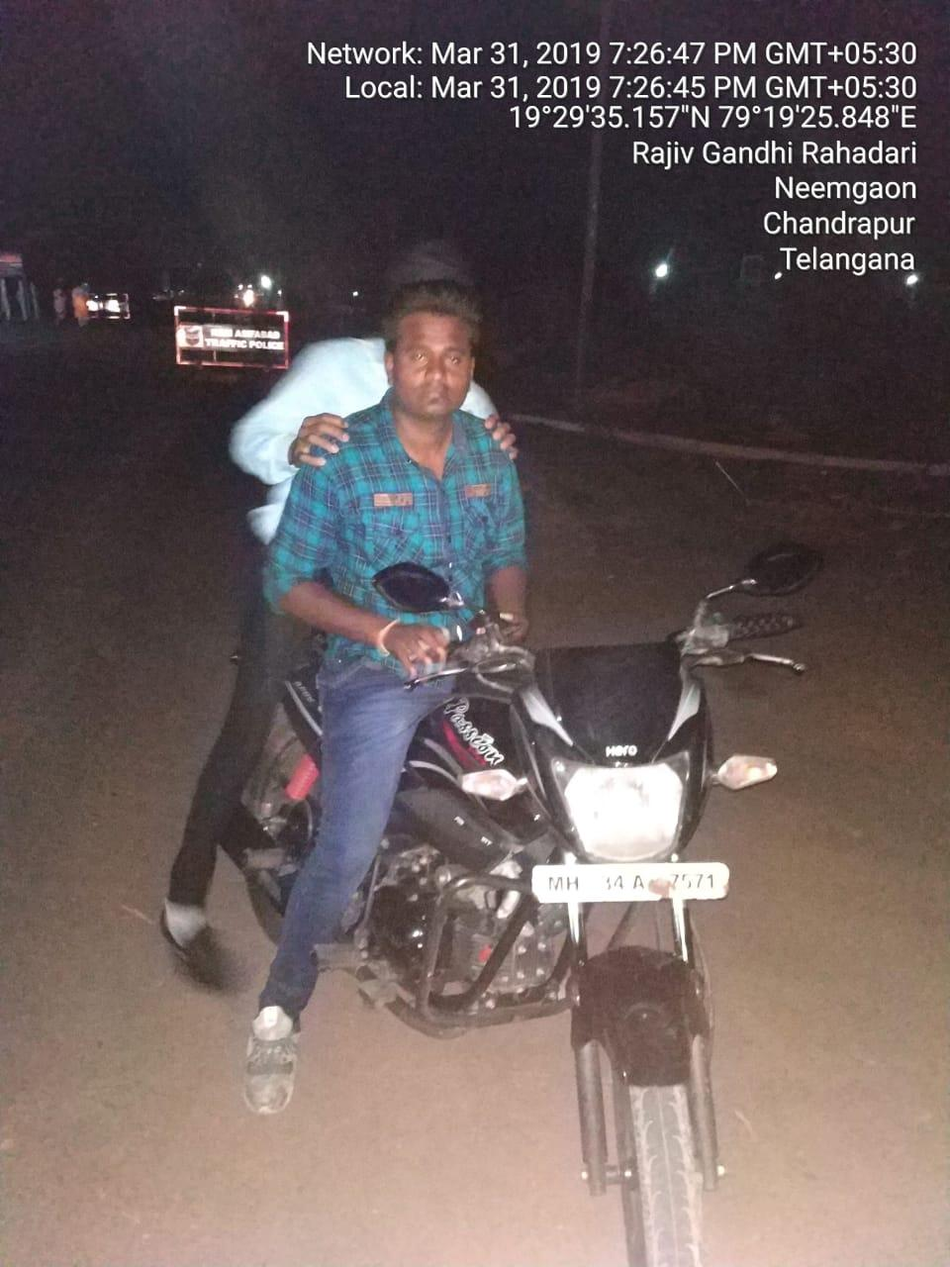plate: (491, 851, 771, 924)
